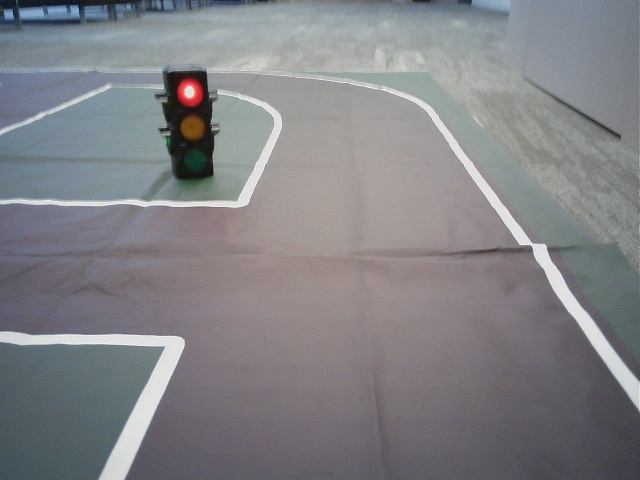red: (172, 74, 211, 172)
